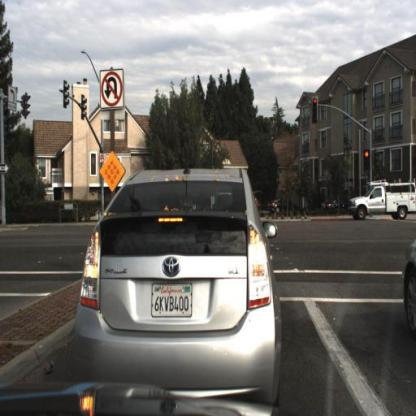car: (72, 166, 283, 398), (342, 169, 416, 230), (388, 205, 416, 353), (320, 191, 347, 220)
trafficLight-Red: (309, 97, 319, 131), (363, 145, 373, 171)
